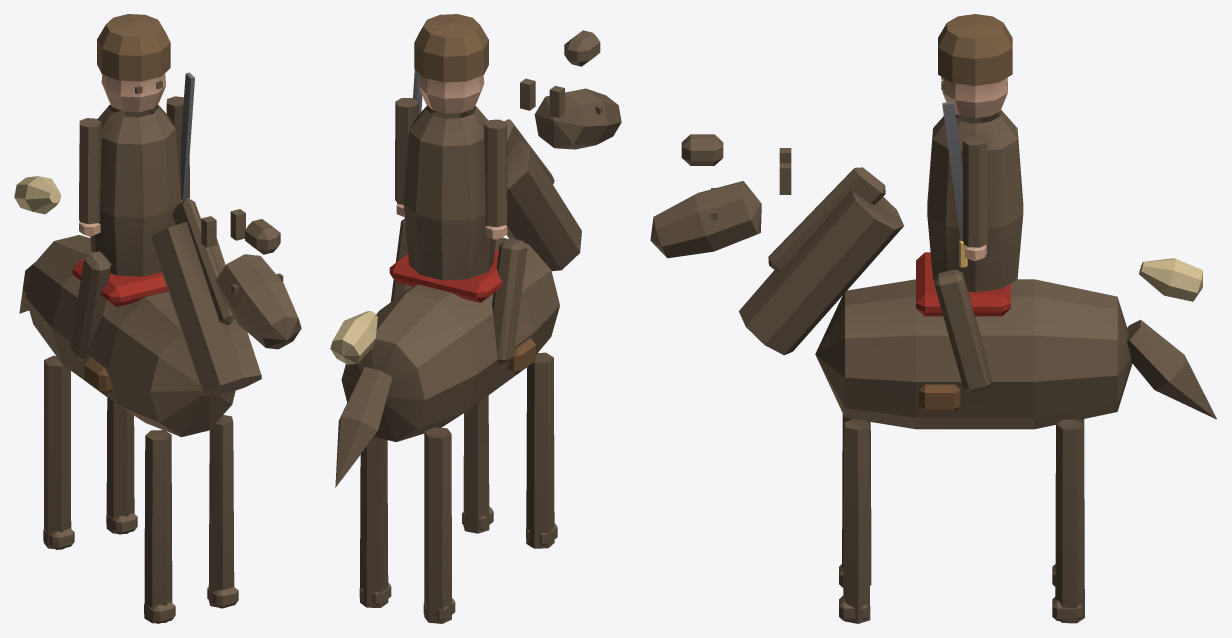
File: unit_oprichnik_kon.glb
The picture shows the model from 3 angles, left to right: view 1: azimuth 30°, elevation 25°; view 2: azimuth 150°, elevation 25°; view 3: azimuth 270°, elevation 25°; orthographic projection. The views are drawn at different scales.
Visible parts, largest first — view 1: unit_oprichnik_kon; view 2: unit_oprichnik_kon; view 3: unit_oprichnik_kon.
Part boxes in pixels (x1,y1,x2,y2): unit_oprichnik_kon: [14, 14, 301, 623]; unit_oprichnik_kon: [330, 14, 621, 623]; unit_oprichnik_kon: [650, 14, 1216, 623].
Bounding box in the file's own units: 0.245 × 1.08 × 0.9565.
